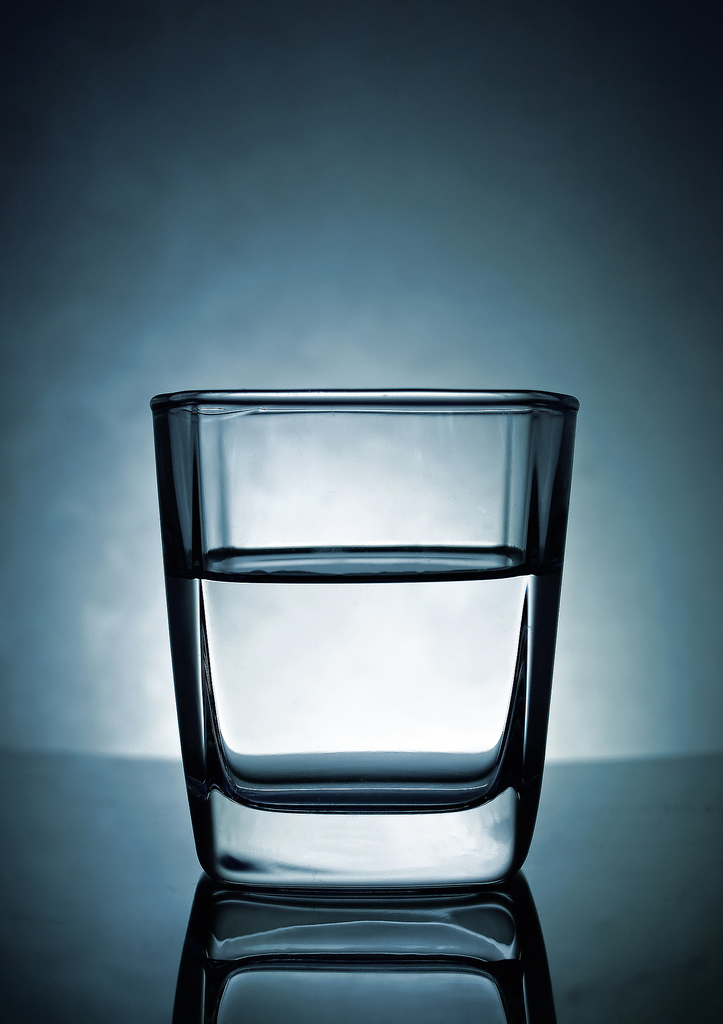glass of water: (165, 401, 549, 886)
